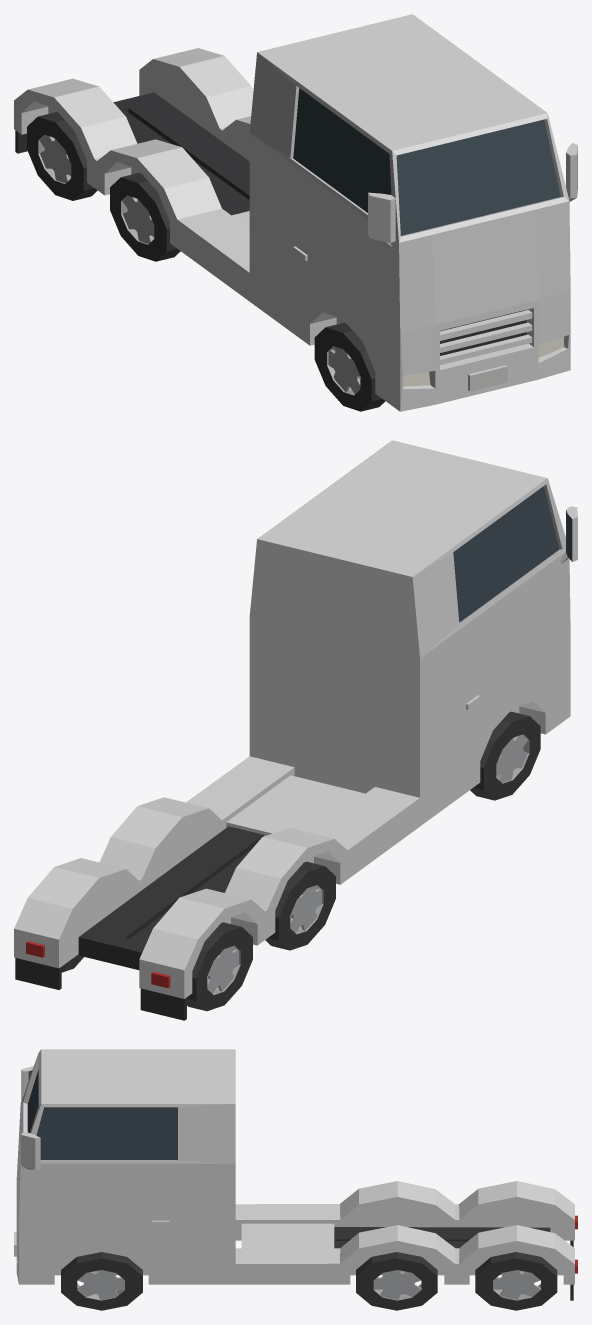
The model's file is truck.glb.
3 views of the same model, one above another, from view 1: azimuth 30°, elevation 25°; view 2: azimuth 150°, elevation 25°; view 3: azimuth 270°, elevation 25° (orthographic). The views are drawn at different scales.
Parts seen in each view (by area): view 1: paint, fixed; view 2: paint, fixed; view 3: paint, fixed.
Boxes of the visible parts, box(x1,y1,x2,y2) form: paint: box(14, 14, 577, 411); fixed: box(15, 88, 564, 411); paint: box(14, 440, 577, 998); fixed: box(15, 486, 572, 1020); paint: box(14, 1049, 574, 1284); fixed: box(27, 1069, 577, 1310).
Bounding box in the file's own units: 2.45 × 3.2 × 8.
